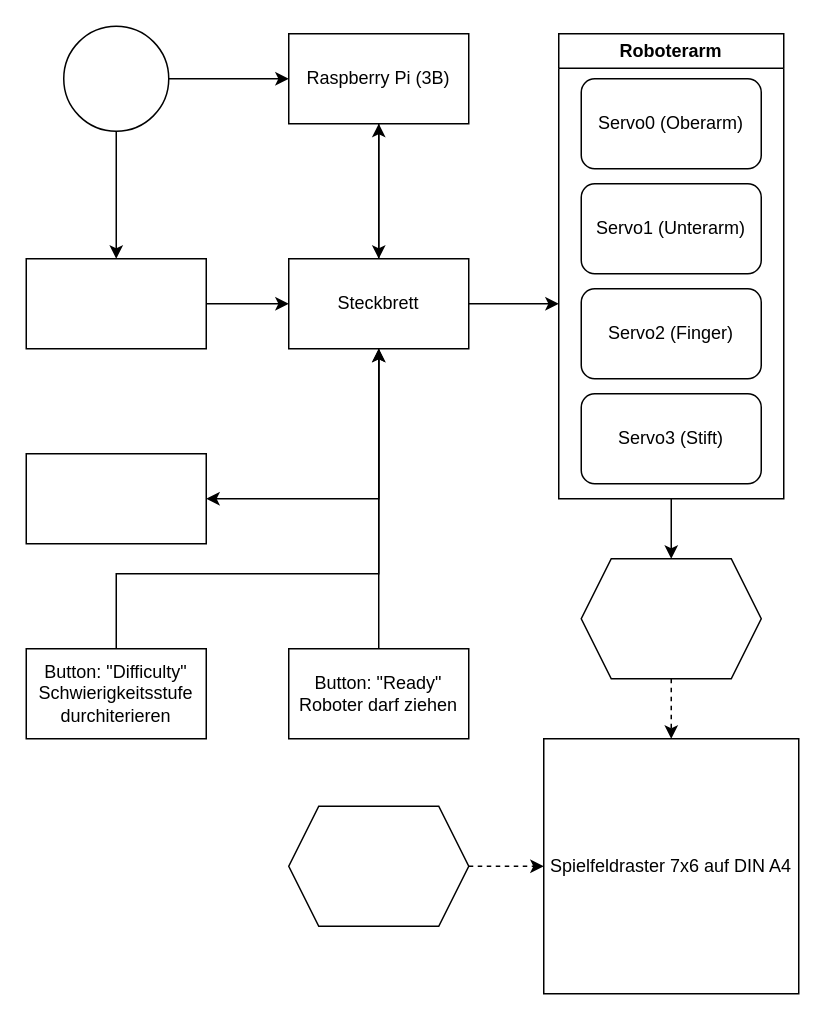
This 825x1020 diagram has some shape labels left out. The shapes that lost their labels are listed below. From the top down, each one's centre as x and y in pixels, then its label:
At point (115, 78): "Steckdose 240V".
At point (115, 303): "Labornetzteil".
At point (115, 498): "LED-Matrix: Spielergebnis, Schwierigkeitsstufe".
At point (670, 618): "Stift (Roboter)".
At point (378, 865): "Stift (Mensch)".
